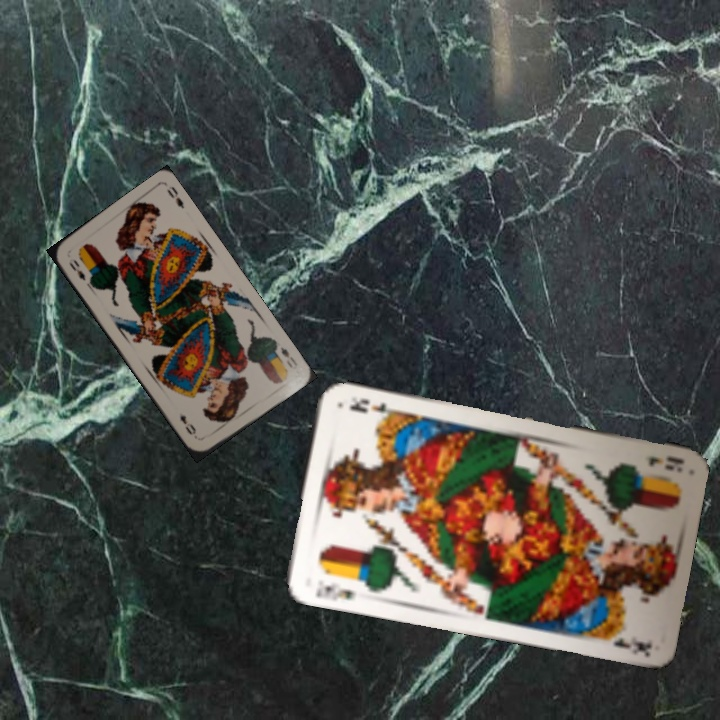EK: (311, 575, 359, 602), (644, 452, 685, 475)
EO: (276, 343, 300, 372), (65, 255, 88, 283)
